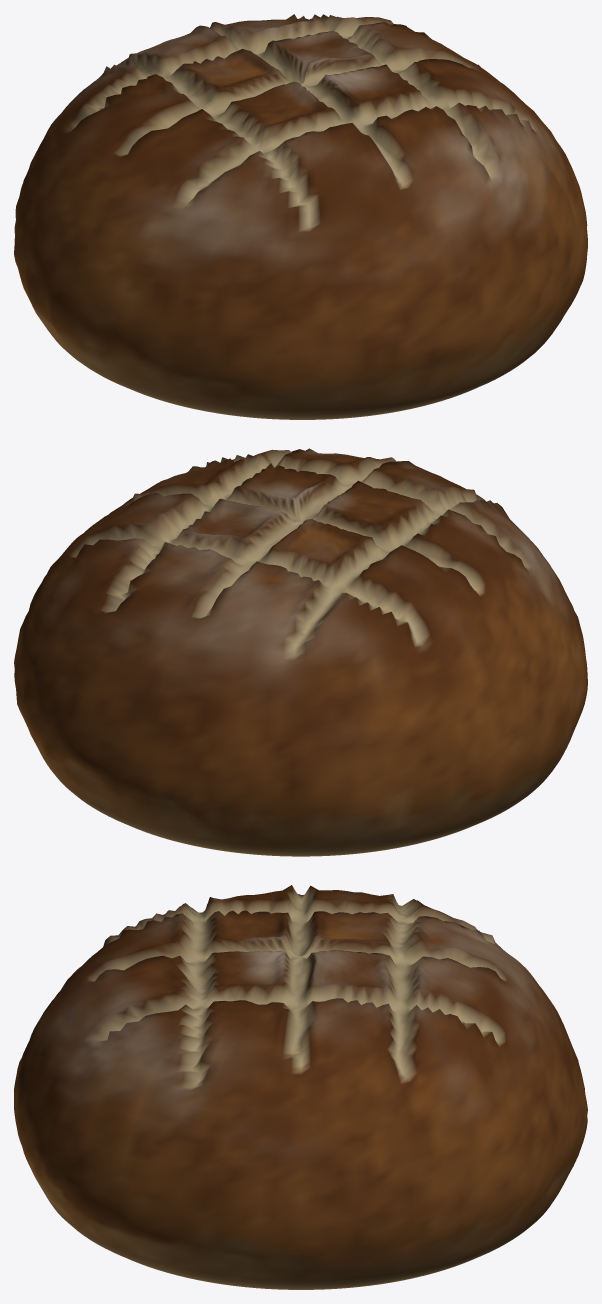
File: kerbricher-500g.glb
3 renders of one model, top to bottom at view 1: azimuth 30°, elevation 25°; view 2: azimuth 150°, elevation 25°; view 3: azimuth 270°, elevation 25°, orthographic.
Visible parts, largest first — view 1: kerbricher-500g; view 2: kerbricher-500g; view 3: kerbricher-500g.
Part boxes in pixels (x1,y1,x2,y2): kerbricher-500g: [14, 14, 587, 419]; kerbricher-500g: [14, 448, 587, 856]; kerbricher-500g: [14, 885, 587, 1289].
Bounding box in the file's own units: 0.18 × 0.085 × 0.18.
